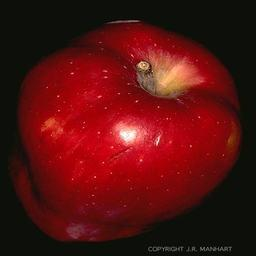apple: (9, 18, 242, 244)
